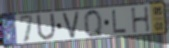7: (18, 14, 34, 44)
H: (130, 5, 151, 34)
L: (111, 9, 128, 36)
Q: (82, 8, 105, 39)
U: (35, 12, 58, 42)
V: (61, 11, 81, 40)
